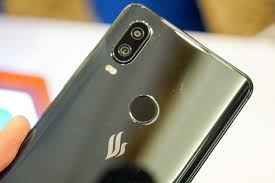vsmart: (2, 3, 252, 183)
